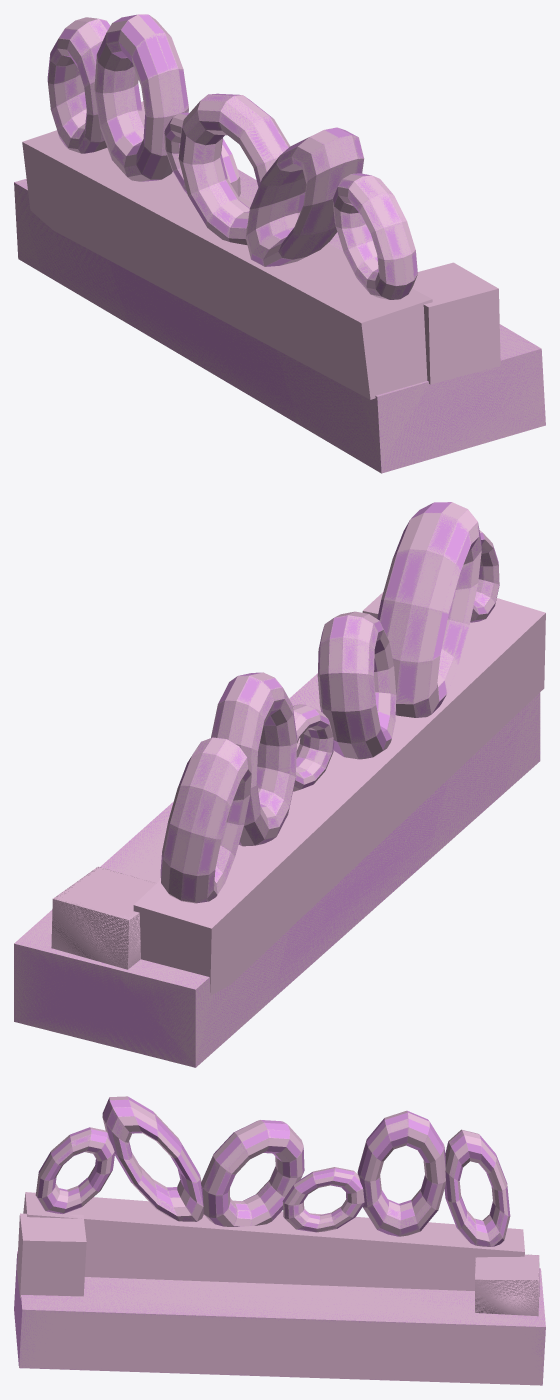
The model's file is decoratedBench.gltf.
The picture shows the model from 3 angles, top to bottom: view 1: azimuth 30°, elevation 25°; view 2: azimuth 150°, elevation 25°; view 3: azimuth 270°, elevation 25°; orthographic projection. The views are drawn at different scales.
Parts seen in each view (by area): view 1: group997983099, group795516396.001, group795516396, group997983099.001, group249111936, group32685562, group250445496, group672843478, group1115652965, group32685562.001, group249111936.001, group438409493 (+6 smaller); view 2: group997983099, group795516396.001, group795516396, group997983099.001, group249111936, group438409493, group249111936.001, group250445496, group32685562, group1601070232, group438409493.001, group250445496.001 (+6 smaller); view 3: group795516396, group997983099.001, group997983099, group672843478, group250445496, group32685562, group795516396.001, group32685562.001, group250445496.001, group249111936, group249111936.001, group1601070232 (+8 smaller).
Boxes of the visible parts, x1,y1,x2,y2 form: group997983099: (22,130,432,399); group795516396.001: (14,170,545,473); group795516396: (14,169,545,473); group997983099.001: (22,130,432,398); group249111936: (245,127,364,266); group32685562: (94,14,188,181); group250445496: (178,94,290,244); group672843478: (413,262,500,384); group1115652965: (332,173,417,299); group32685562.001: (94,14,188,181); group249111936.001: (246,127,363,266); group438409493: (48,17,108,153); group997983099: (133,598,545,995); group795516396.001: (14,673,540,1067); group795516396: (14,673,540,1067); group997983099.001: (133,598,545,995); group249111936: (378,502,481,717); group438409493: (160,737,251,903); group249111936.001: (377,502,481,717); group250445496: (317,611,396,759); group32685562: (211,672,297,846); group1601070232: (51,866,156,969); group438409493.001: (160,737,251,902); group250445496.001: (317,614,396,759); group795516396: (14,1251,545,1385); group997983099.001: (25,1192,524,1290); group997983099: (23,1192,524,1290); group672843478: (17,1213,86,1298); group250445496: (201,1120,304,1226); group32685562: (357,1110,445,1236); group795516396.001: (14,1251,545,1385); group32685562.001: (357,1110,445,1236); group250445496.001: (201,1120,304,1226); group249111936: (102,1096,203,1221); group249111936.001: (102,1096,203,1221); group1601070232: (475,1254,539,1315).
Size of the model in its own units: 1.54 by 2.42 by 4.84.
